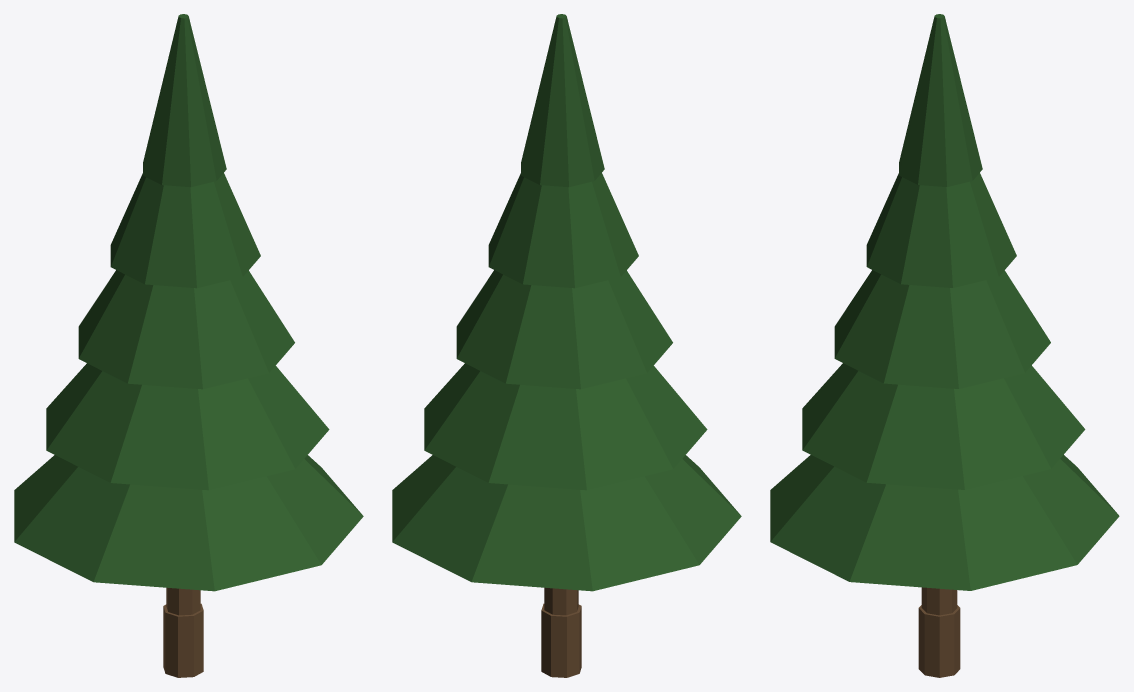
The model's file is NAT_Pine.fbx.
3 views of the same model, side by side, from view 1: azimuth 30°, elevation 25°; view 2: azimuth 150°, elevation 25°; view 3: azimuth 270°, elevation 25° (orthographic).
Visible parts, largest first — view 1: NAT_Pine__BODY, NAT_Pine__COL_Trunk; view 2: NAT_Pine__BODY, NAT_Pine__COL_Trunk; view 3: NAT_Pine__BODY, NAT_Pine__COL_Trunk.
Boxes of the visible parts, x1,y1,x2,y2 form: NAT_Pine__BODY: [14, 14, 363, 677]; NAT_Pine__COL_Trunk: [166, 587, 200, 615]; NAT_Pine__BODY: [392, 14, 741, 677]; NAT_Pine__COL_Trunk: [544, 587, 578, 615]; NAT_Pine__BODY: [770, 14, 1119, 677]; NAT_Pine__COL_Trunk: [921, 587, 957, 615].
Bounding box in the file's own units: 6.93 × 14.08 × 6.83.
